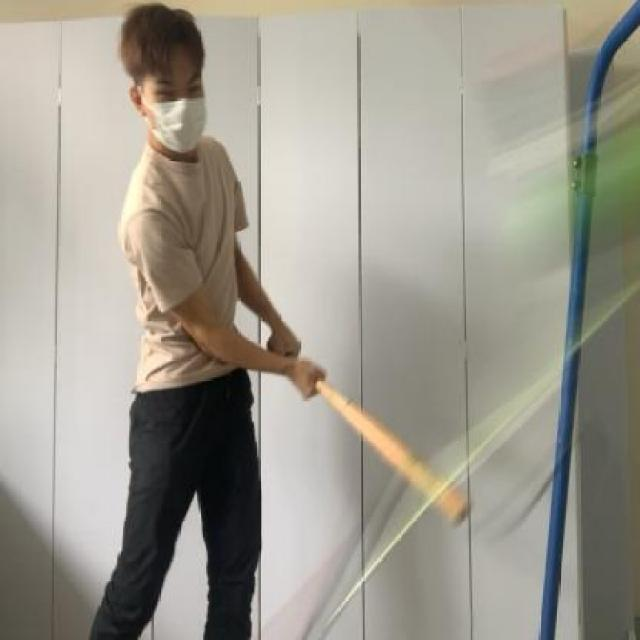baseball: (481, 70, 640, 295)
